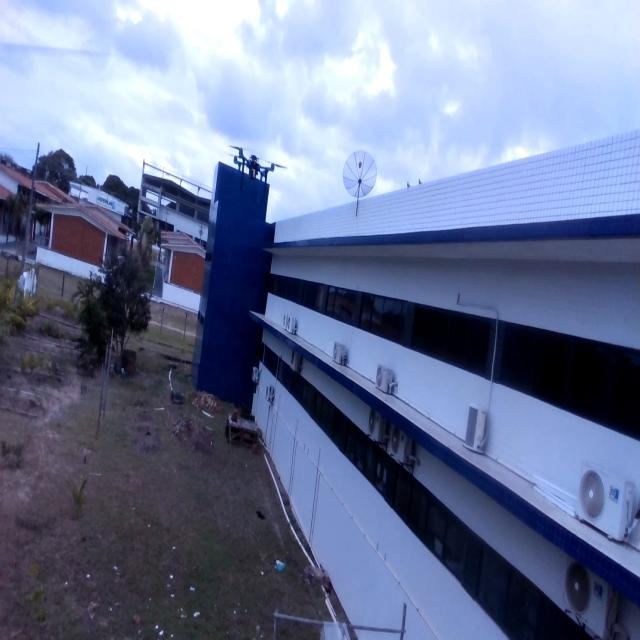-uav-: (232, 132, 289, 201)
